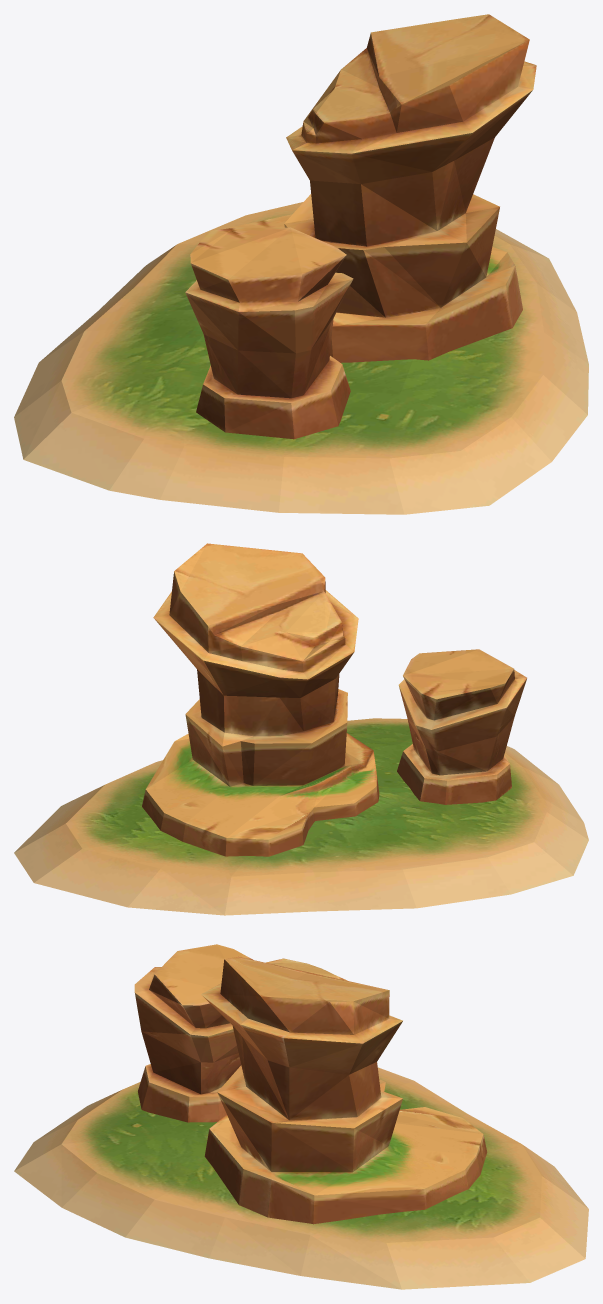
File: shatan_shishan02.fbx
3 renders of one model, top to bottom at view 1: azimuth 30°, elevation 25°; view 2: azimuth 150°, elevation 25°; view 3: azimuth 270°, elevation 25°, orthographic. The views are drawn at different scales.
Visible parts, largest first — view 1: shatan_shishan02; view 2: shatan_shishan02; view 3: shatan_shishan02.
Boxes of the visible parts, x1,y1,x2,y2 form: shatan_shishan02: (14,14,588,514); shatan_shishan02: (14,543,588,915); shatan_shishan02: (14,944,588,1289).
Size of the model in its own units: 12.63 by 6.2 by 12.87.
